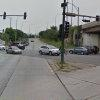Car: (35, 37, 59, 61)
